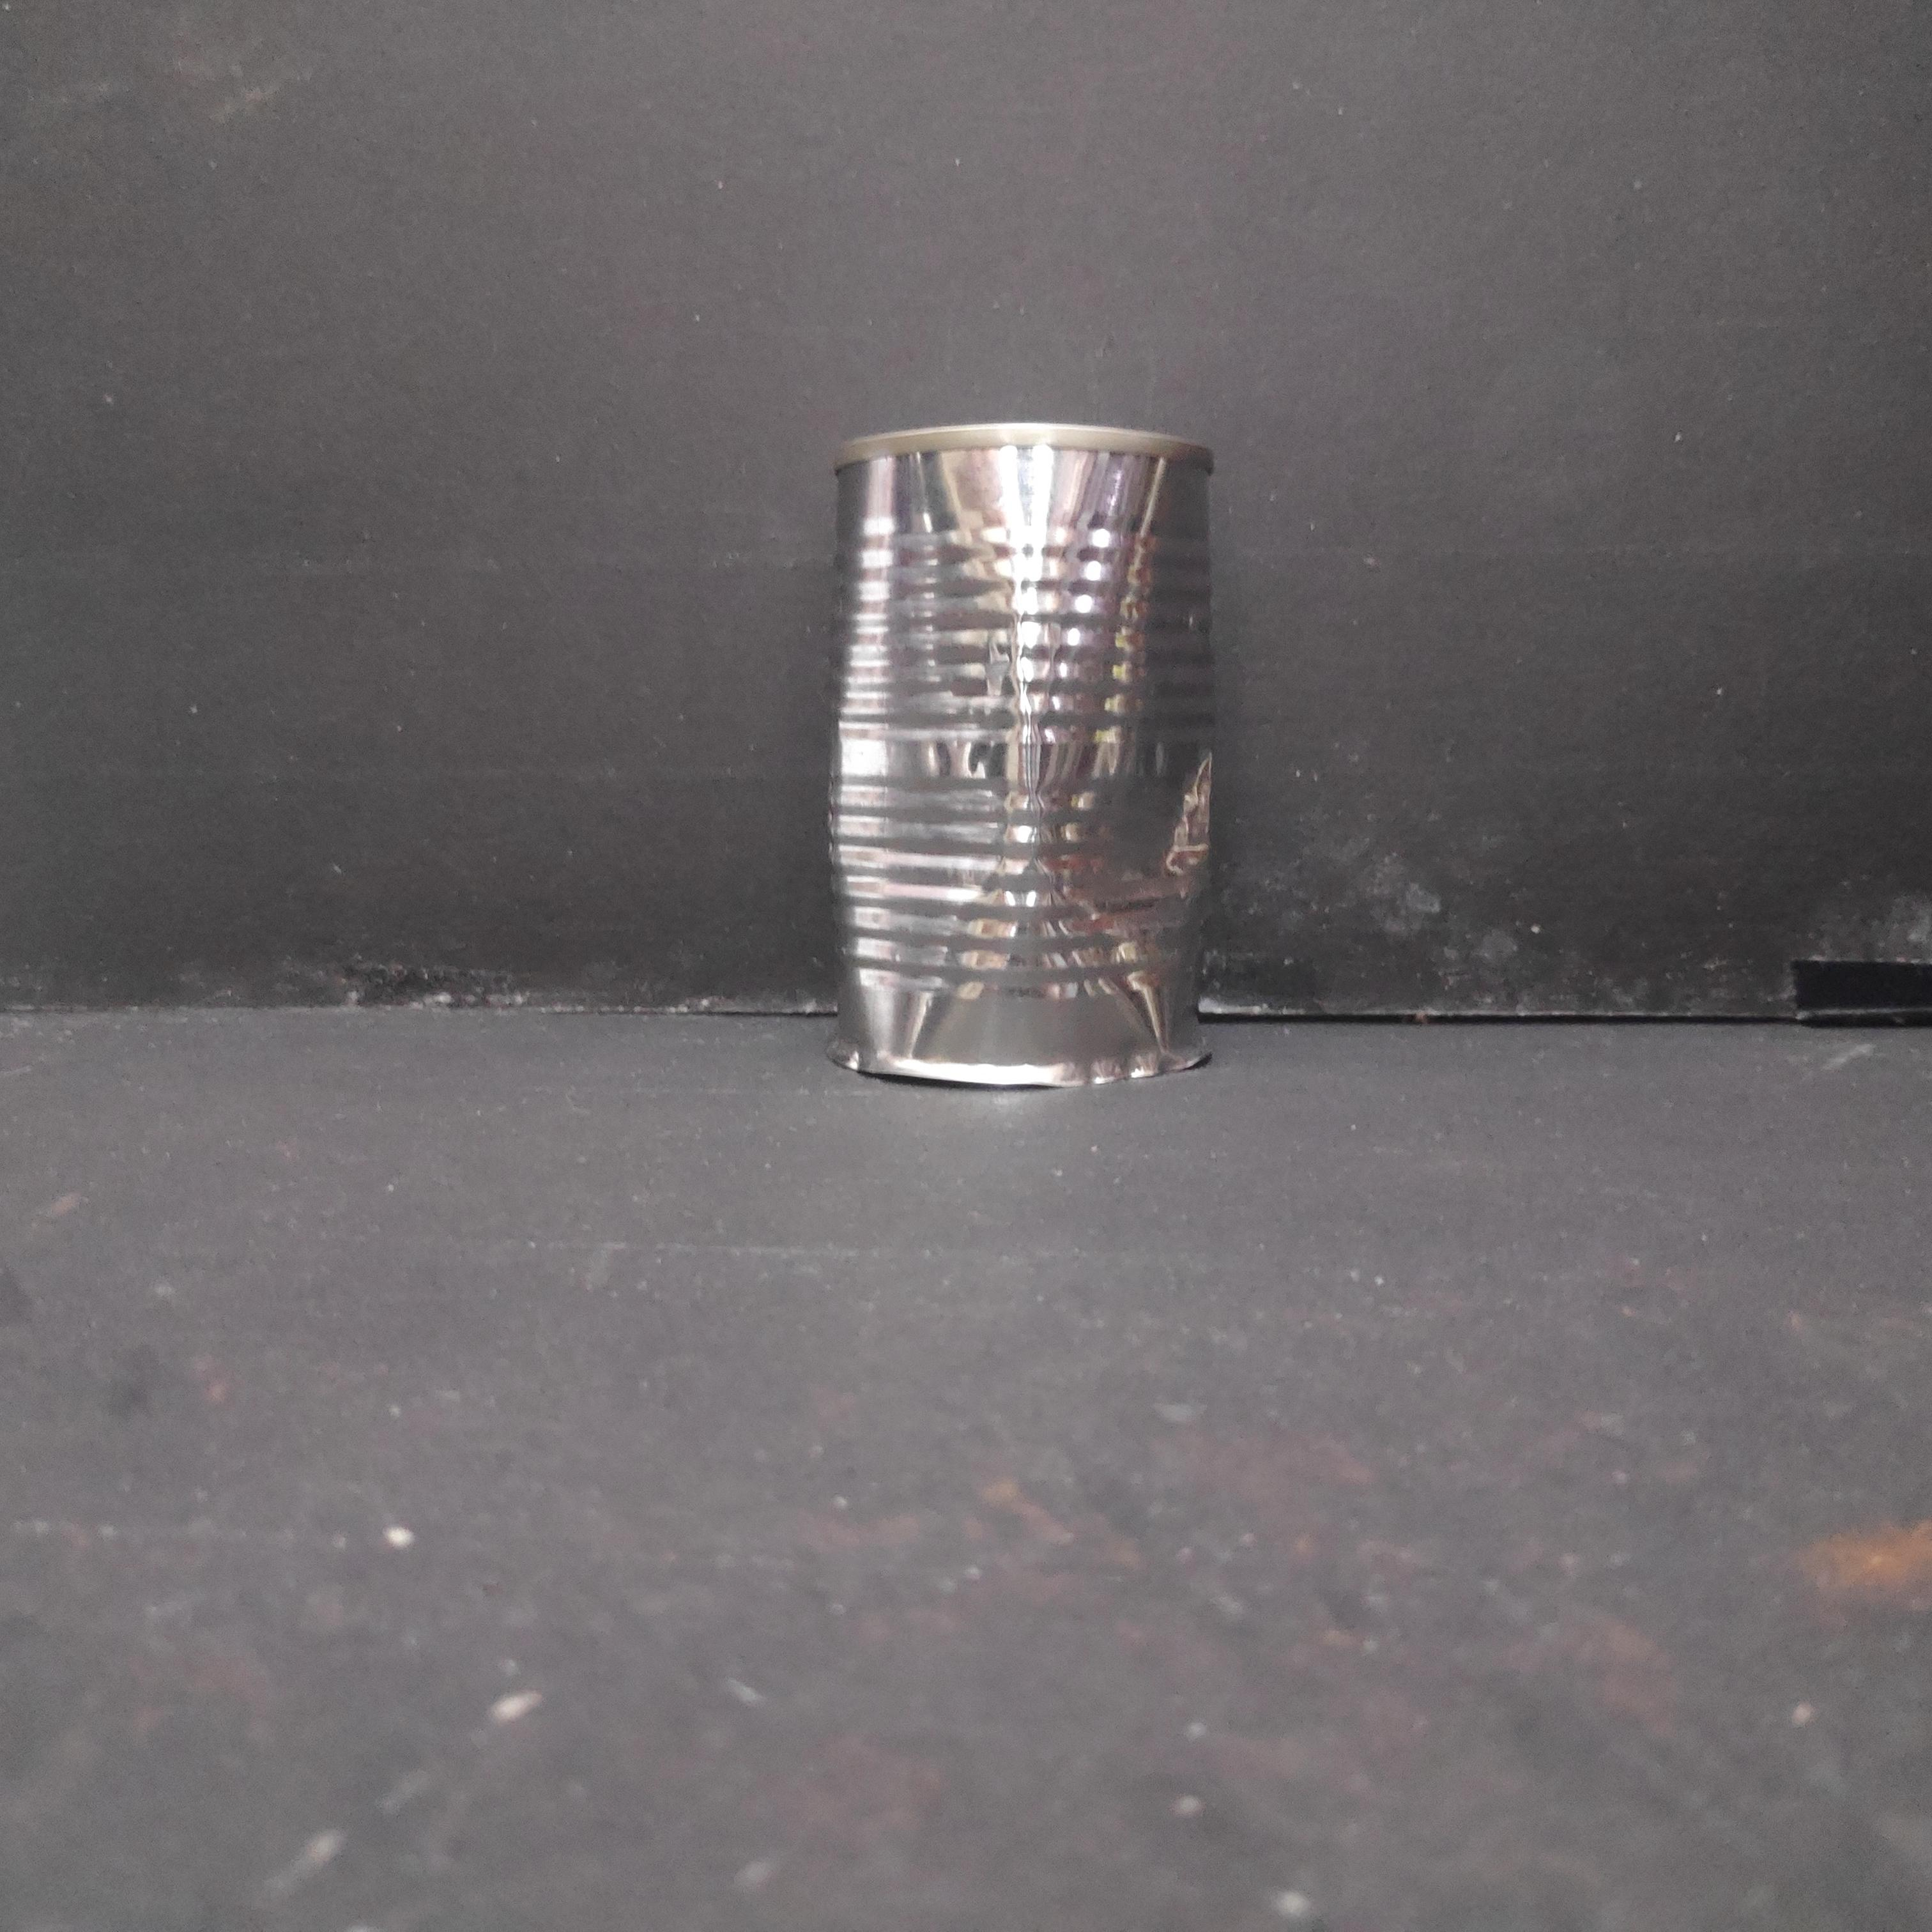Minor Defect: (809, 416, 1233, 1099)
